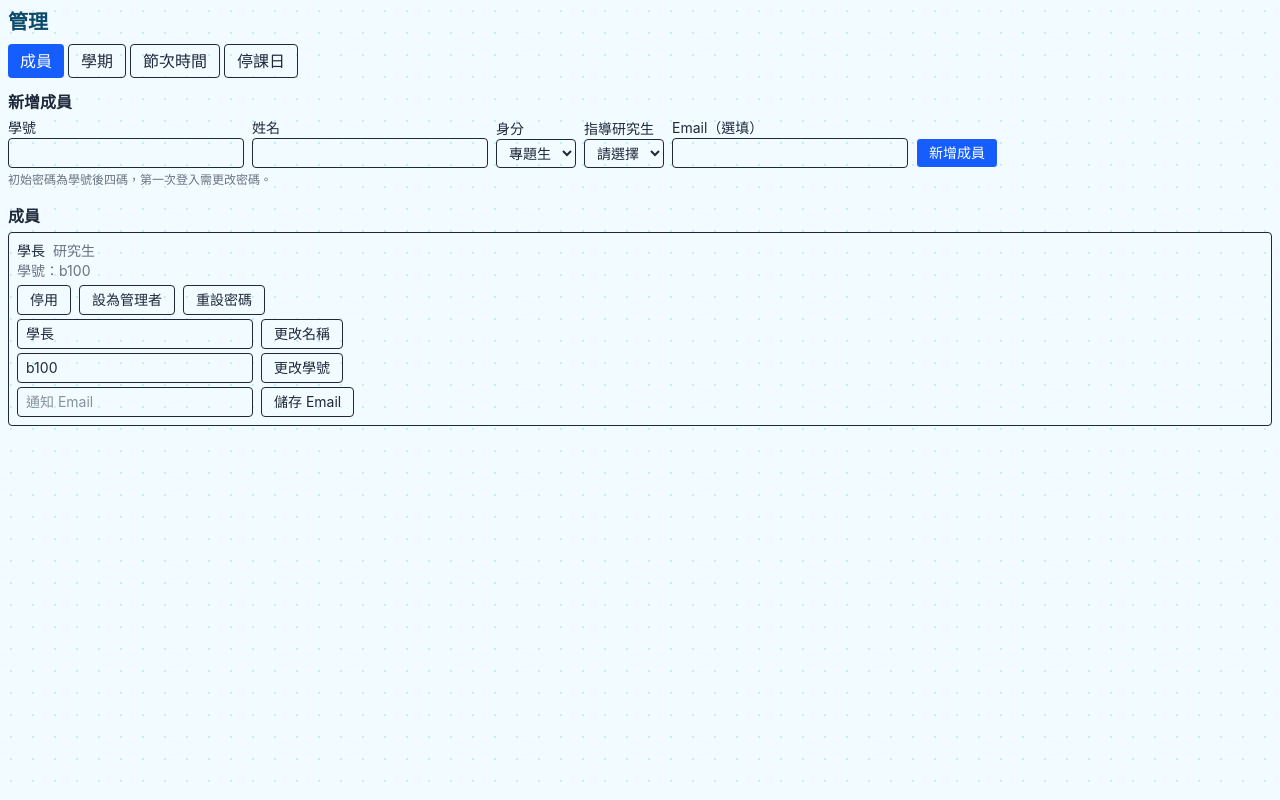
it: AdminPage period times › rejects a period that starts before the previous one ends
The image size is (1280, 800).
Click the tab "節次時間" at coordinates (175, 61), box [130,44,220,78]
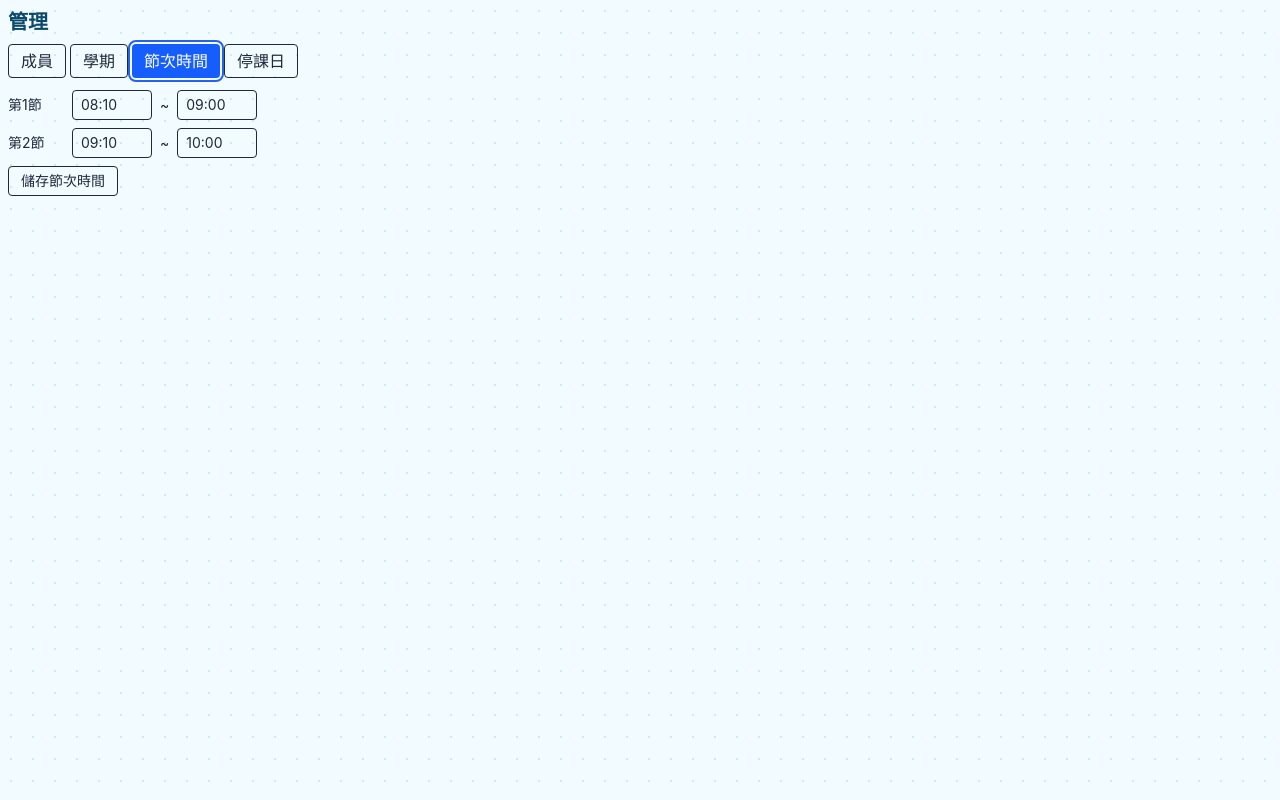
Replace the text in the field named "第2節開始" with "08:30" at coordinates (112, 143), box [72,128,152,158]
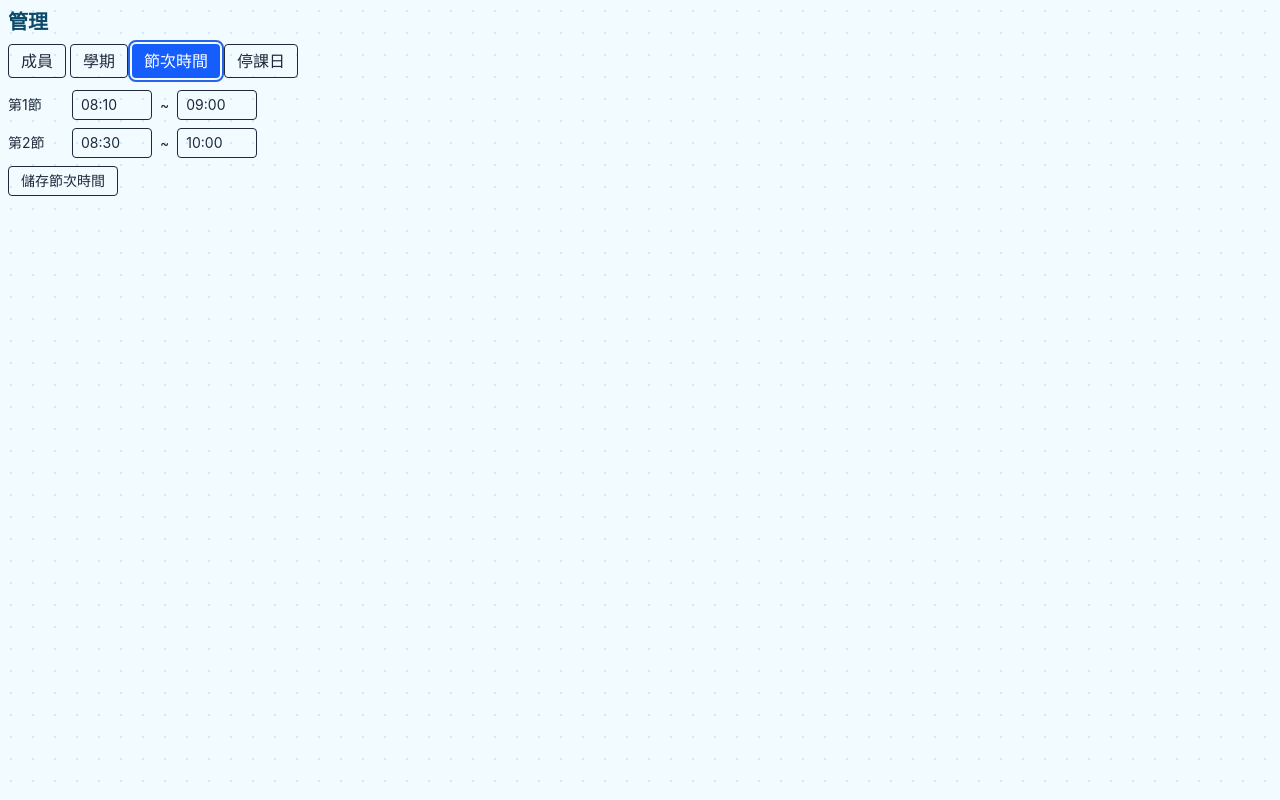
Click the button "儲存節次時間" at coordinates (63, 181), box [8,166,118,196]
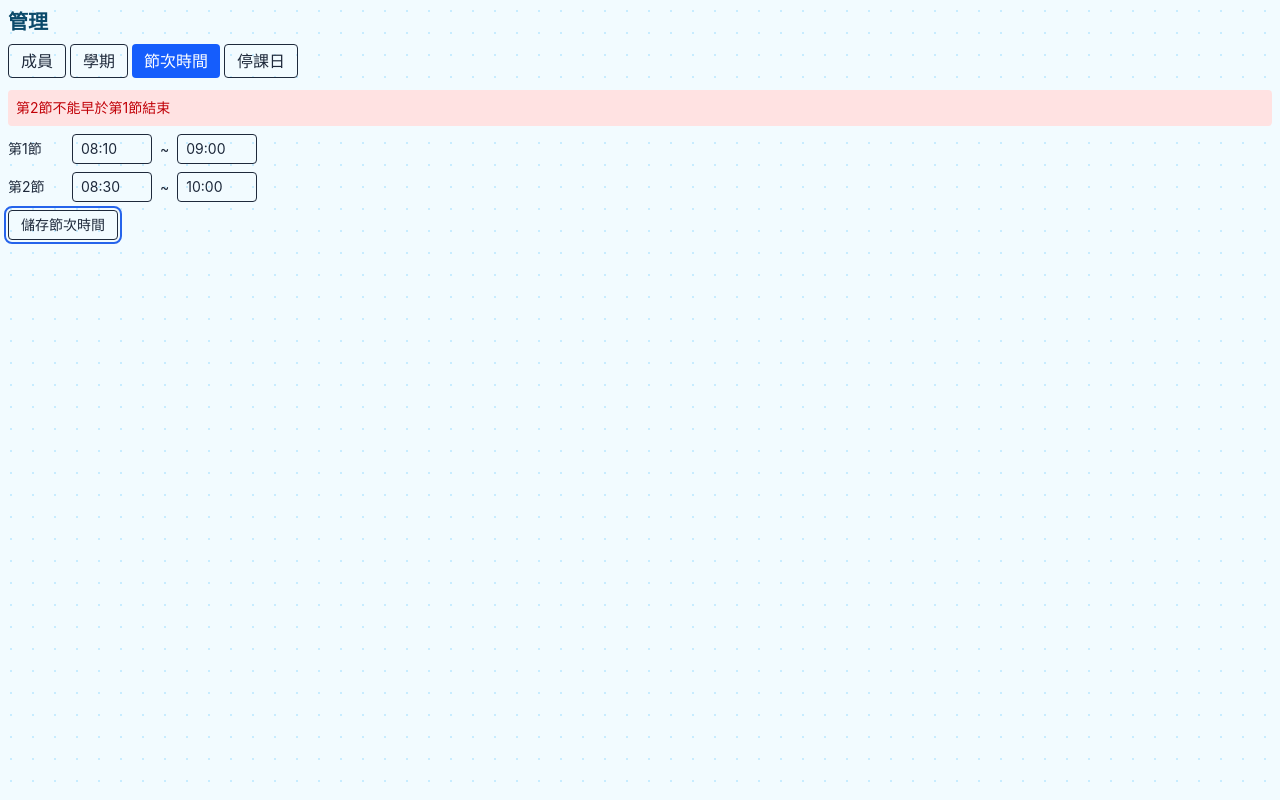
Check: the message reads "第2節不能早於第1節結束", box [16,99,170,116]
